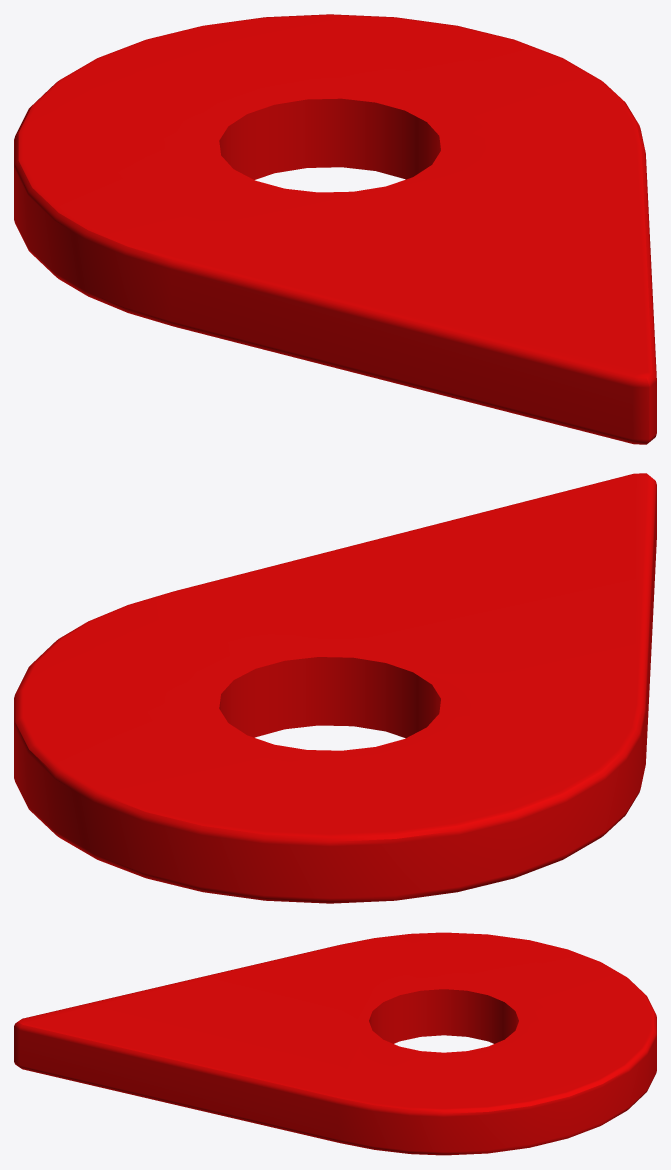
File: Pin.fbx
The picture shows the model from 3 angles, top to bottom: view 1: azimuth 30°, elevation 25°; view 2: azimuth 150°, elevation 25°; view 3: azimuth 270°, elevation 25°; orthographic projection. The views are drawn at different scales.
Parts seen in each view (by area): view 1: Pin; view 2: Pin; view 3: Pin.
Part boxes in pixels (x1=…): Pin: x1=14, y1=14, x2=656, y2=444; Pin: x1=14, y1=473, x2=656, y2=903; Pin: x1=14, y1=932, x2=656, y2=1155.
Size of the model in its own units: 2 by 0.2378 by 3.
